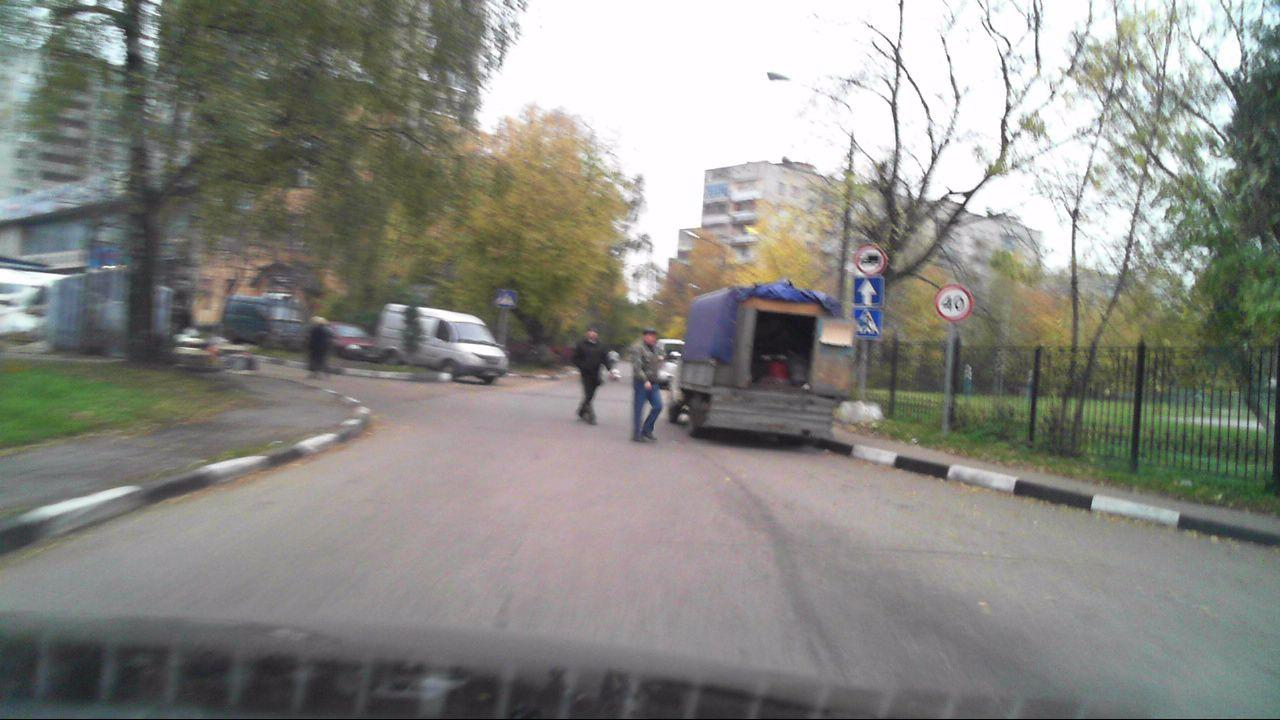road_sign: (934, 284, 973, 322), (855, 244, 887, 276), (853, 275, 884, 306), (852, 308, 882, 338)
